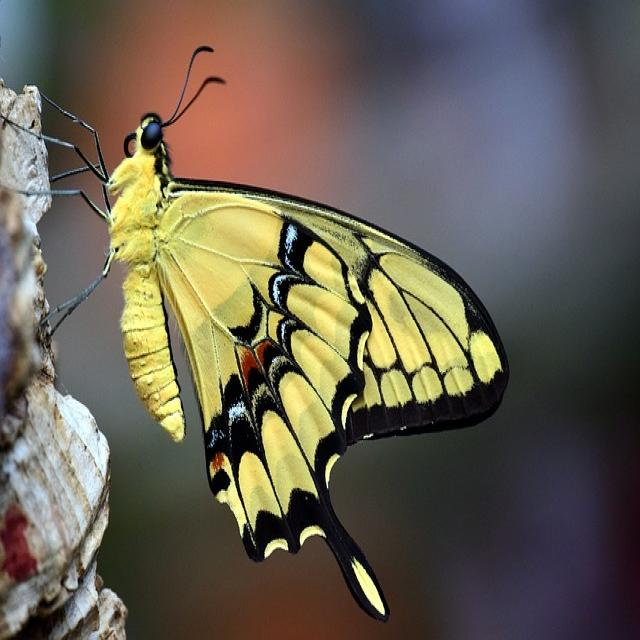butterfly: (108, 114, 508, 619)
